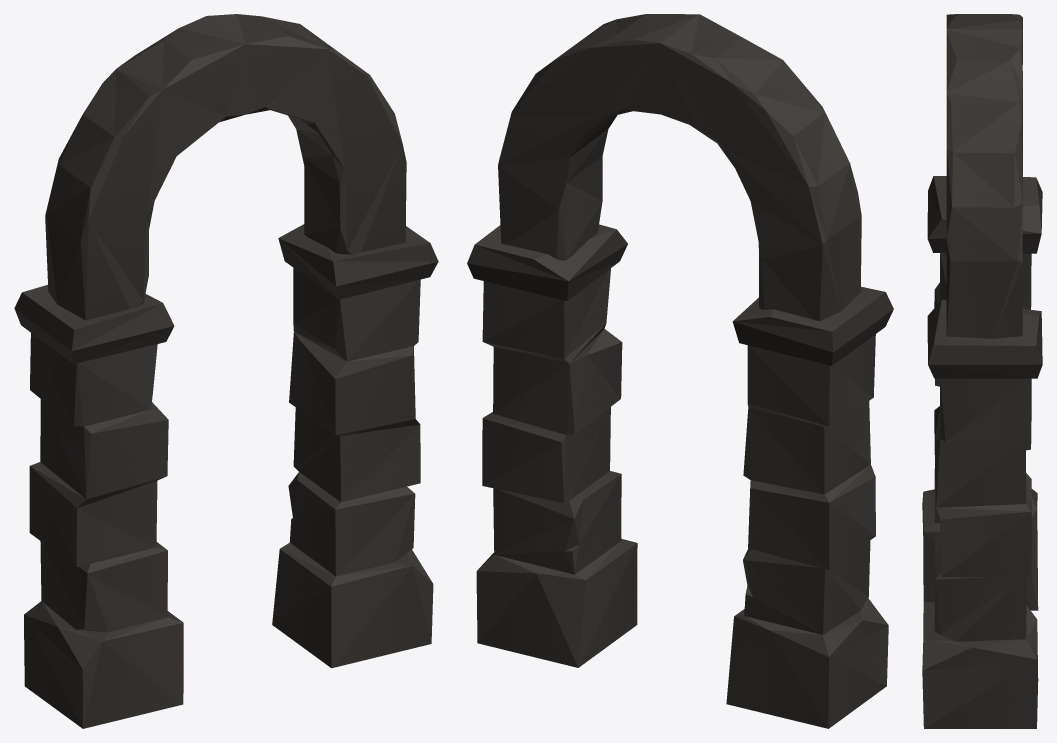
File: Pillar_3A.fbx
3 views of the same model, side by side, from view 1: azimuth 30°, elevation 25°; view 2: azimuth 150°, elevation 25°; view 3: azimuth 270°, elevation 25° (orthographic). The views are drawn at different scales.
Parts seen in each view (by area): view 1: polySurface545; view 2: polySurface545; view 3: polySurface545.
Boxes of the visible parts, x1,y1,x2,y2 form: polySurface545: (14, 14, 438, 728); polySurface545: (467, 14, 893, 728); polySurface545: (922, 14, 1042, 728).
Bounding box in the file's own units: 541 × 893 × 158.
Materials: 1 (1 with a texture image).
